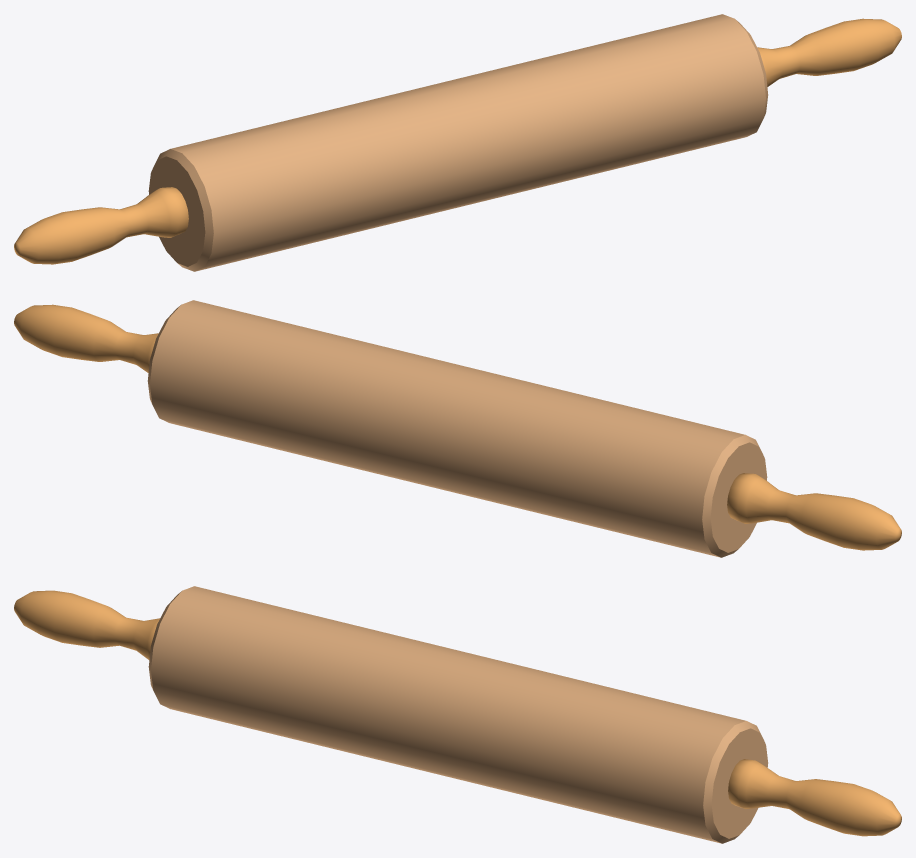
File: Kavel.fbx
3 renders of one model, top to bottom at view 1: azimuth 30°, elevation 25°; view 2: azimuth 150°, elevation 25°; view 3: azimuth 330°, elevation 25°, orthographic.
Visible parts, largest first — view 1: polySurface9; view 2: polySurface9; view 3: polySurface9.
Boxes of the visible parts, <box> form: polySurface9: <box>14,14,901,271</box>; polySurface9: <box>14,300,901,557</box>; polySurface9: <box>14,586,901,843</box>.
Bounding box in the file's own units: 4.69 × 0.5779 × 0.5779.
